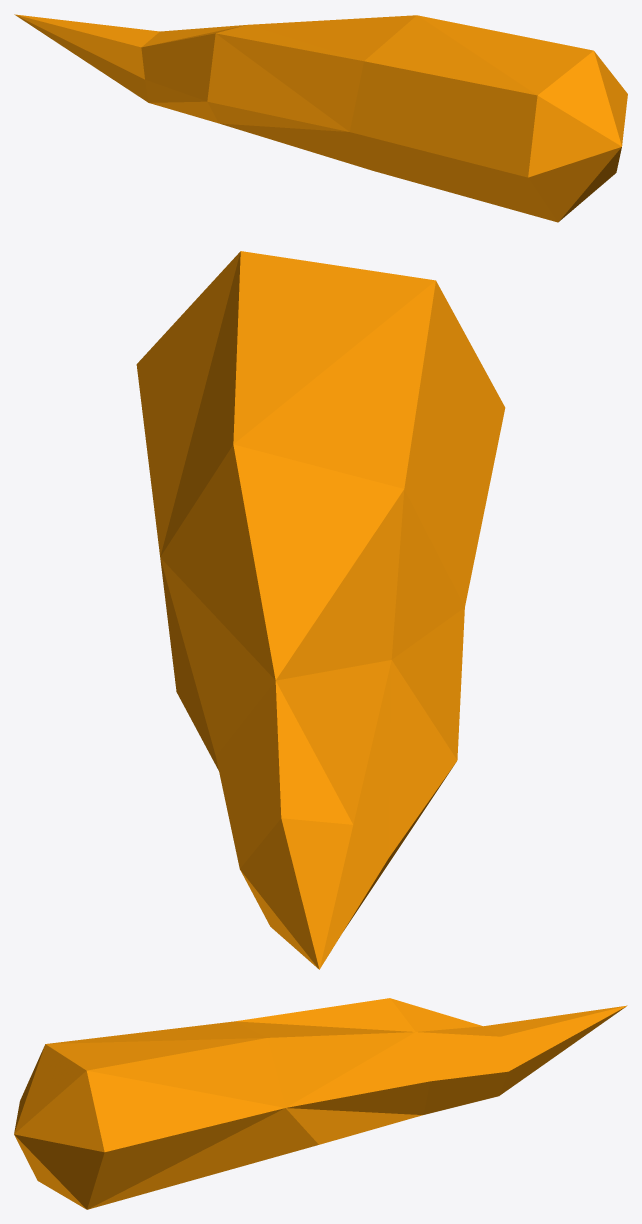
Rendered from Snowman_nose.glb.
3 views of the same model, one above another, from view 1: azimuth 30°, elevation 25°; view 2: azimuth 150°, elevation 25°; view 3: azimuth 270°, elevation 25° (orthographic). The views are drawn at different scales.
Parts seen in each view (by area): view 1: group1479642564; view 2: group1479642564; view 3: group1479642564.
Part boxes in pixels (<box>): group1479642564: <box>14,14,627,222</box>; group1479642564: <box>136,251,505,969</box>; group1479642564: <box>14,998,627,1209</box>.
Bounding box in the file's own units: 0.1286 × 0.0487 × 0.1936.
